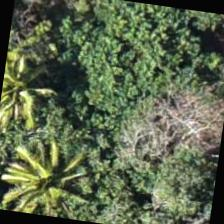Kelapa_Sawit: (0, 119, 102, 222), (0, 32, 62, 129)
